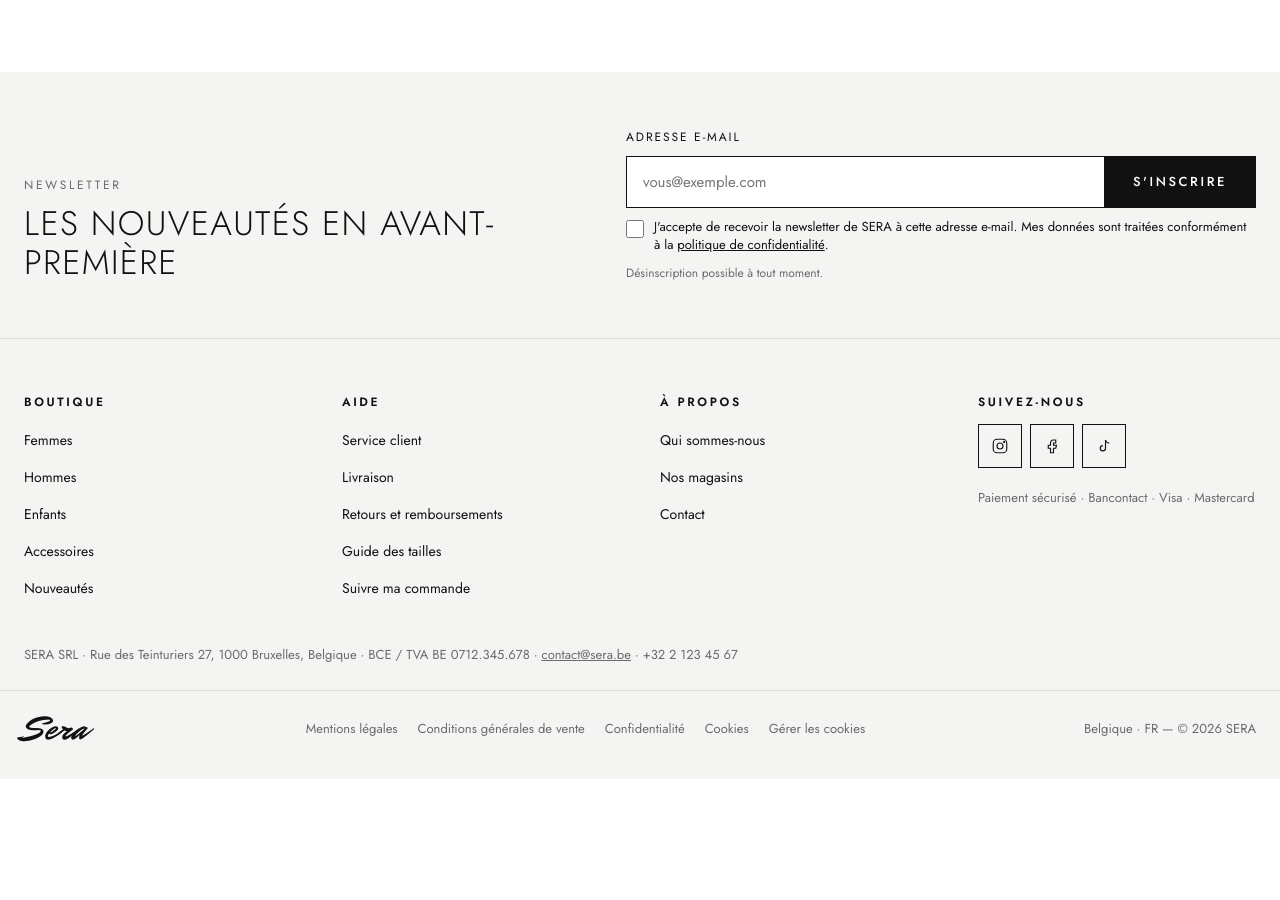
it: Footer — newsletter › n'envoie rien sans consentement et affiche une erreur
Type "marie@exemple.com" into the field labelled "Adresse e-mail". click: (865,182)
box: [626,156,1104,208]
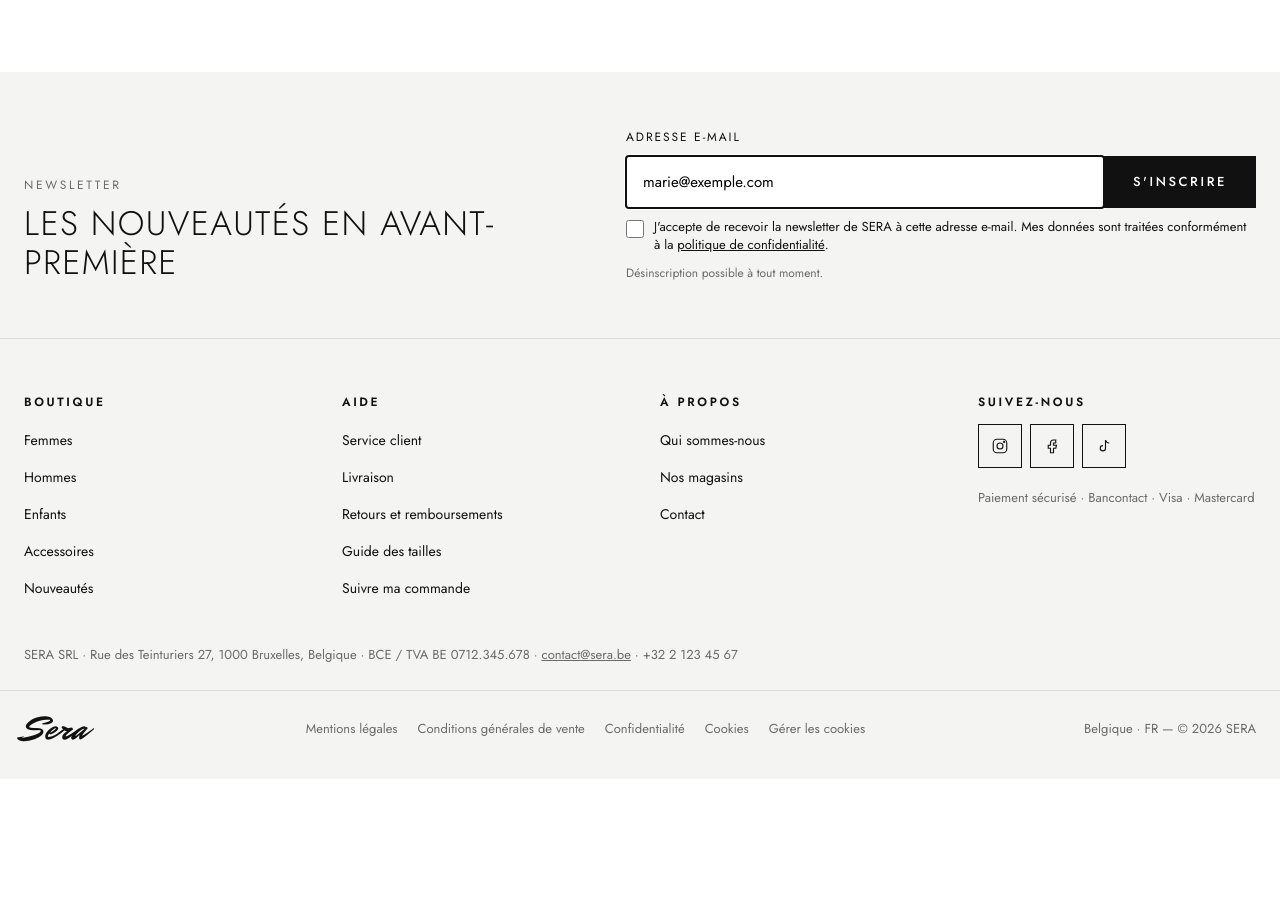
Click the button "S'inscrire". click: (1180,182)
box: [1104,156,1256,208]
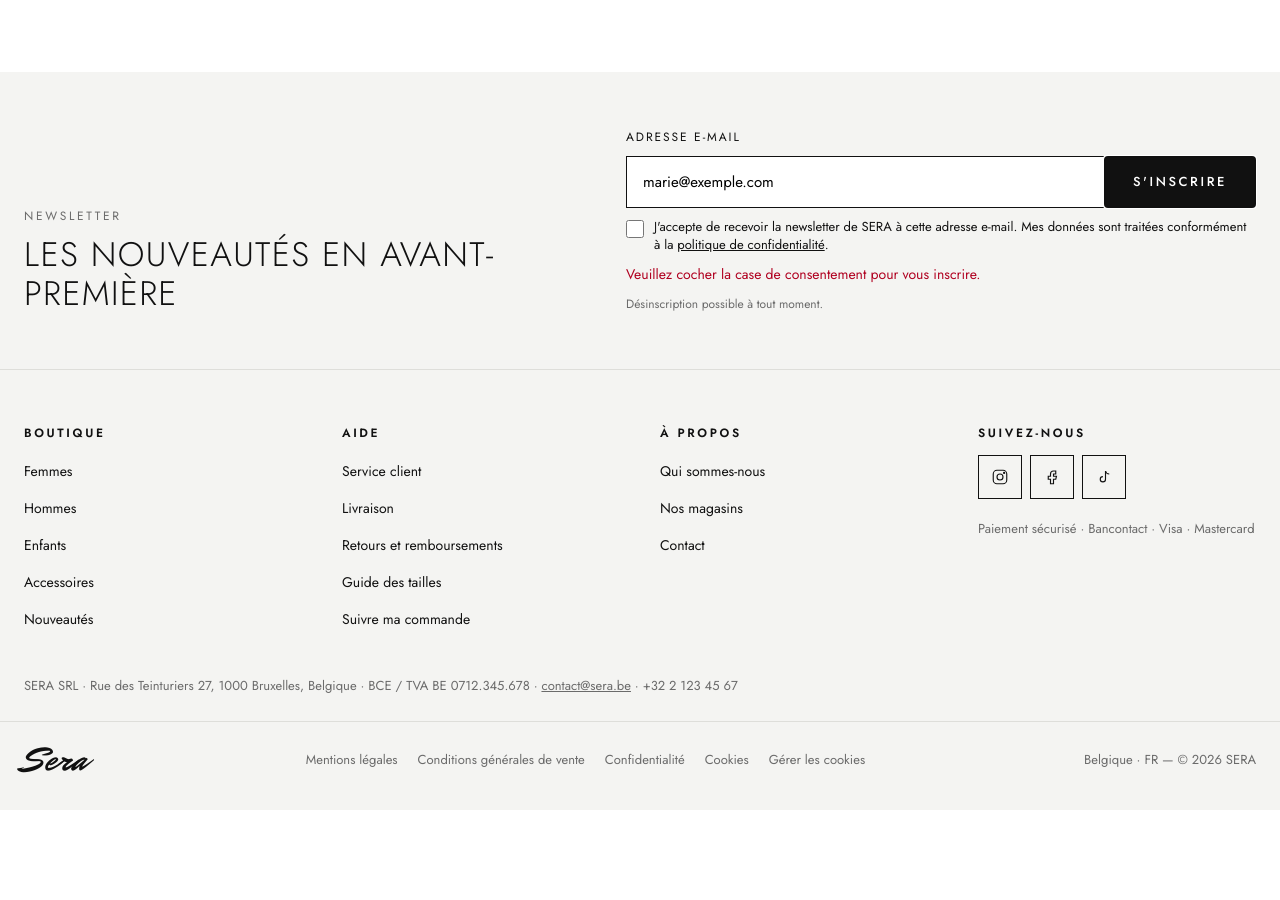
Expected: the message shows "Veuillez cocher la case de consentement", [626,264,980,284]
